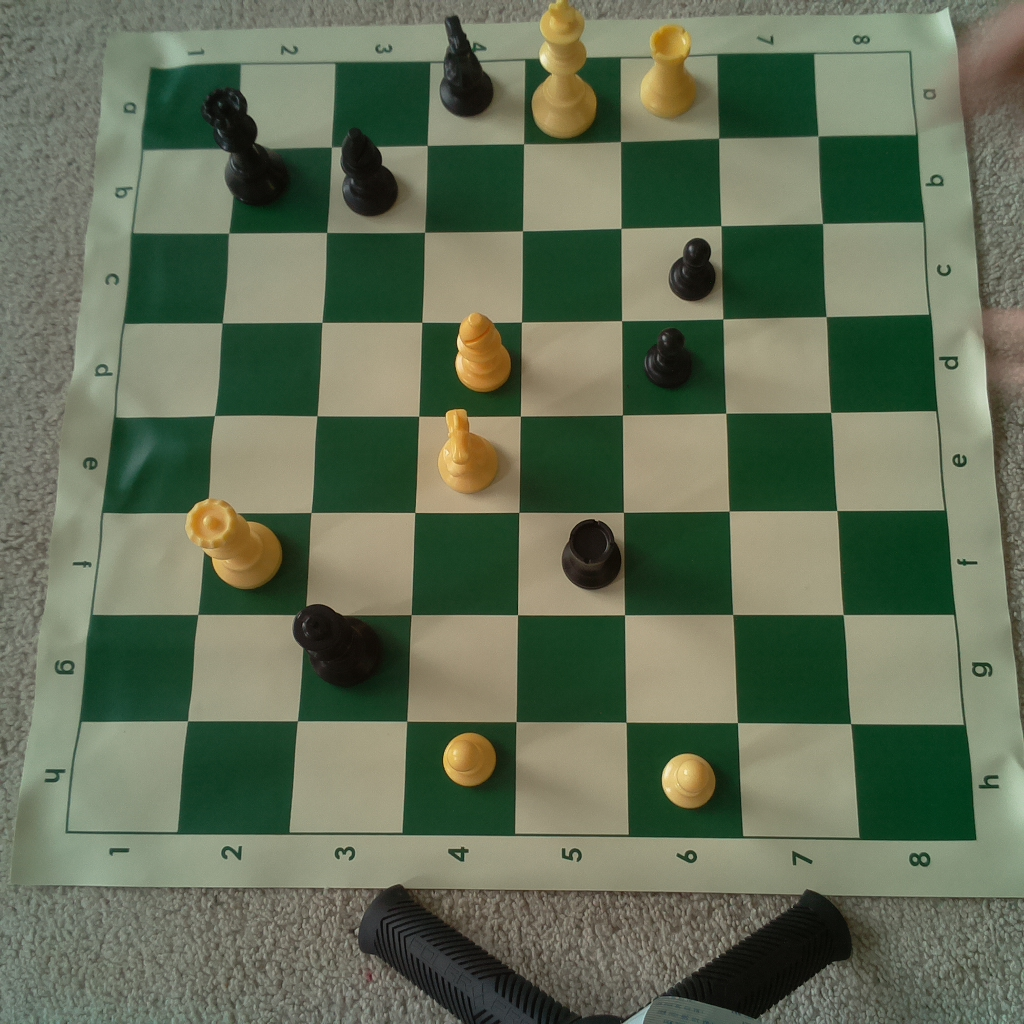black_bishop: (336, 123, 401, 221)
black_king: (288, 604, 386, 684)
black_knight: (432, 8, 499, 125)
black_pawn: (659, 231, 718, 301), (641, 322, 697, 390)
black_queen: (201, 84, 293, 208)
black_rook: (555, 508, 623, 590)
file_a: (138, 49, 918, 154)
file_b: (131, 135, 924, 235)
file_c: (125, 221, 928, 323)
file_d: (116, 314, 936, 418)
file_e: (102, 409, 947, 510)
file_f: (90, 508, 954, 614)
file_g: (77, 615, 970, 726)
file_h: (67, 721, 977, 840)
outline: (67, 51, 979, 838)
rank_1: (67, 62, 242, 831)
rank_2: (176, 66, 337, 835)
rank_3: (288, 62, 432, 836)
rank_4: (402, 62, 528, 834)
rank_5: (515, 60, 632, 836)
rank_6: (618, 56, 745, 838)
rank_7: (719, 54, 862, 836)
rank_8: (815, 54, 979, 839)
white_bishop: (450, 310, 514, 395)
white_king: (520, 1, 601, 138)
white_knight: (428, 402, 502, 495)
white_pawn: (651, 745, 724, 818), (440, 723, 499, 790)
white_queen: (181, 496, 289, 588)
white_rook: (631, 19, 702, 118)
